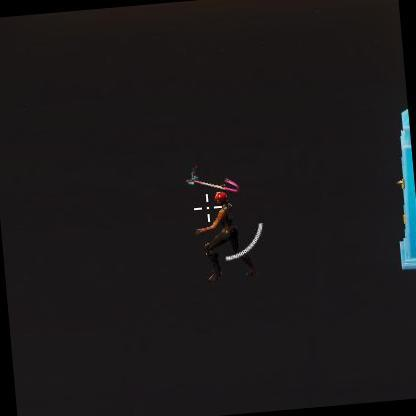person: (198, 178, 255, 286)
